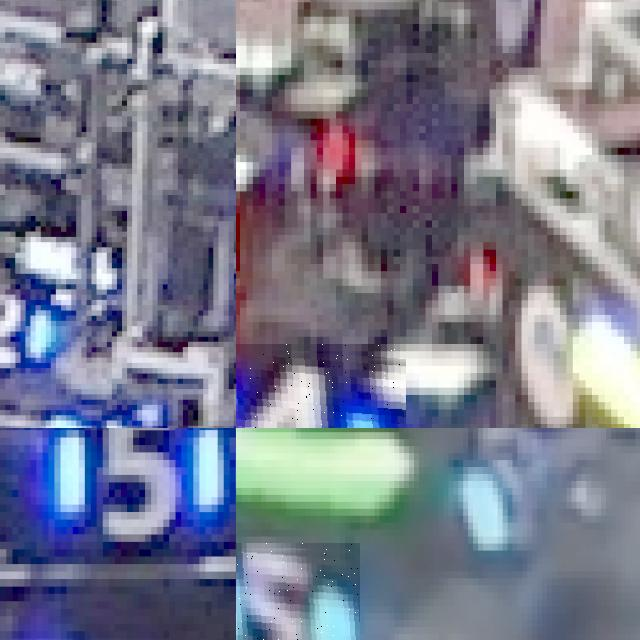B4: (236, 344, 406, 428)
B5: (48, 428, 235, 534), (236, 543, 359, 640)
